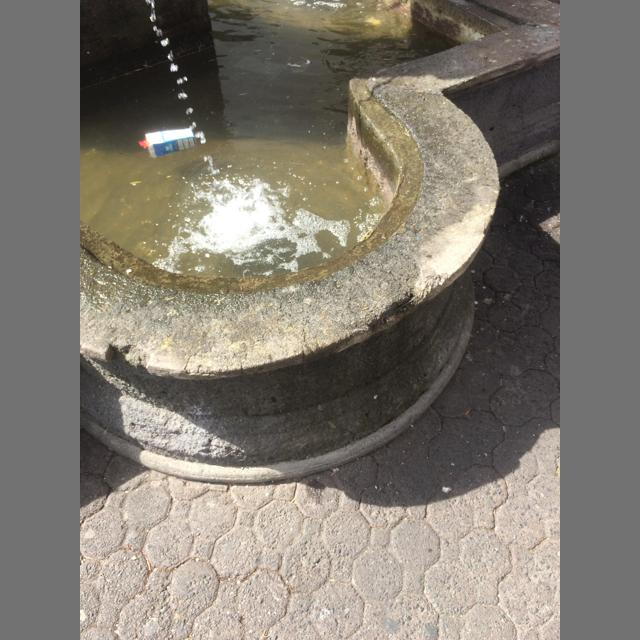litter: (145, 129, 196, 158)
